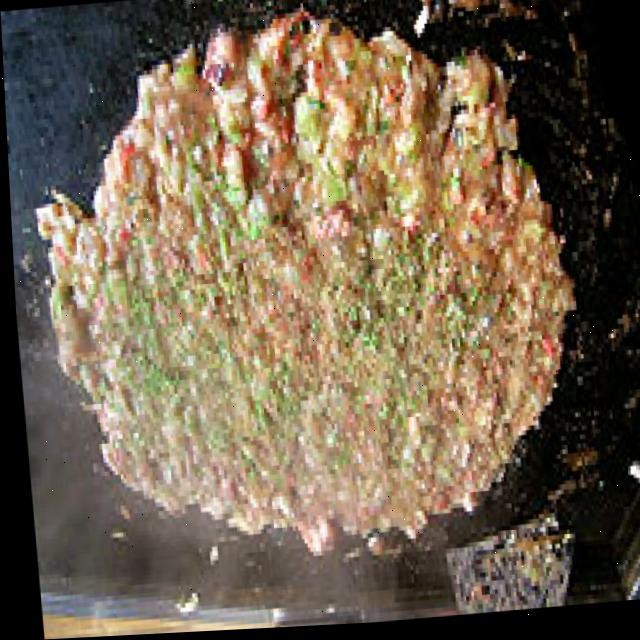蛋糕甜品: (26, 5, 572, 577)
